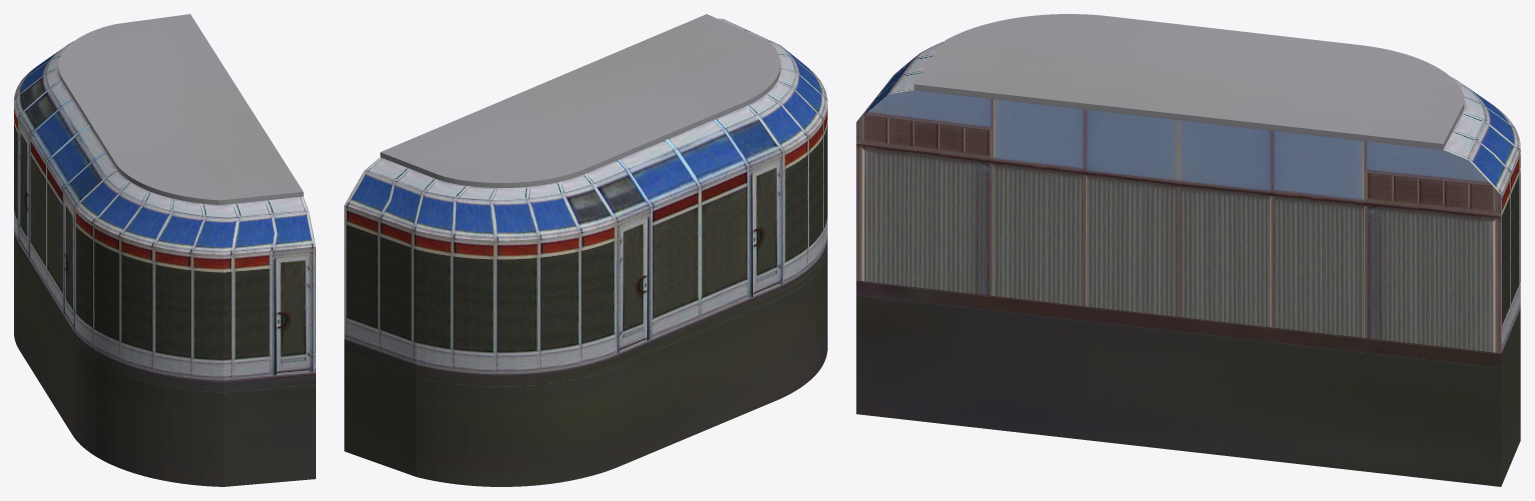
3 renders of one model, left to right at view 1: azimuth 30°, elevation 25°; view 2: azimuth 150°, elevation 25°; view 3: azimuth 270°, elevation 25°, orthographic. The views are drawn at different scales.
Visible parts, largest first — view 1: Group_003, Group_002, Group_001, Group_004, Group_005; view 2: Group_003, Group_001, Group_002, Group_004, Group_005; view 3: Group_006, Group_001, Group_002, Group_003, Group_004, Group_005.
Boxes of the visible parts, x1,y1,x2,y2 form: Group_003: (14, 104, 315, 392); Group_002: (58, 14, 303, 204); Group_001: (14, 242, 315, 486); Group_004: (14, 49, 315, 254); Group_005: (46, 41, 308, 218); Group_003: (344, 104, 827, 386); Group_001: (344, 250, 827, 486); Group_002: (380, 14, 780, 187); Group_004: (344, 46, 827, 240); Group_005: (365, 18, 795, 200); Group_006: (856, 90, 1501, 367); Group_001: (856, 295, 1520, 486); Group_002: (914, 14, 1464, 149); Group_003: (1501, 149, 1520, 366); Group_004: (857, 54, 1520, 194); Group_005: (888, 41, 1486, 160).
Size of the model in its own units: 5.78 by 5.66 by 10.13.
Materials: 6 (6 with a texture image).
